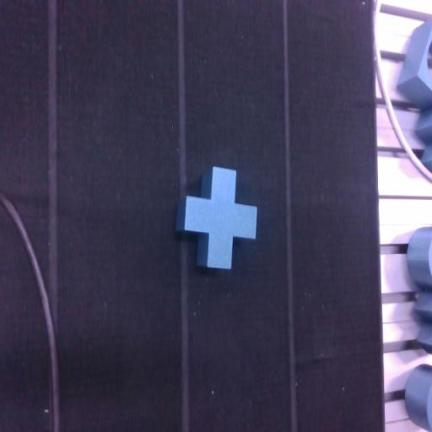cross: (177, 168, 257, 269)
